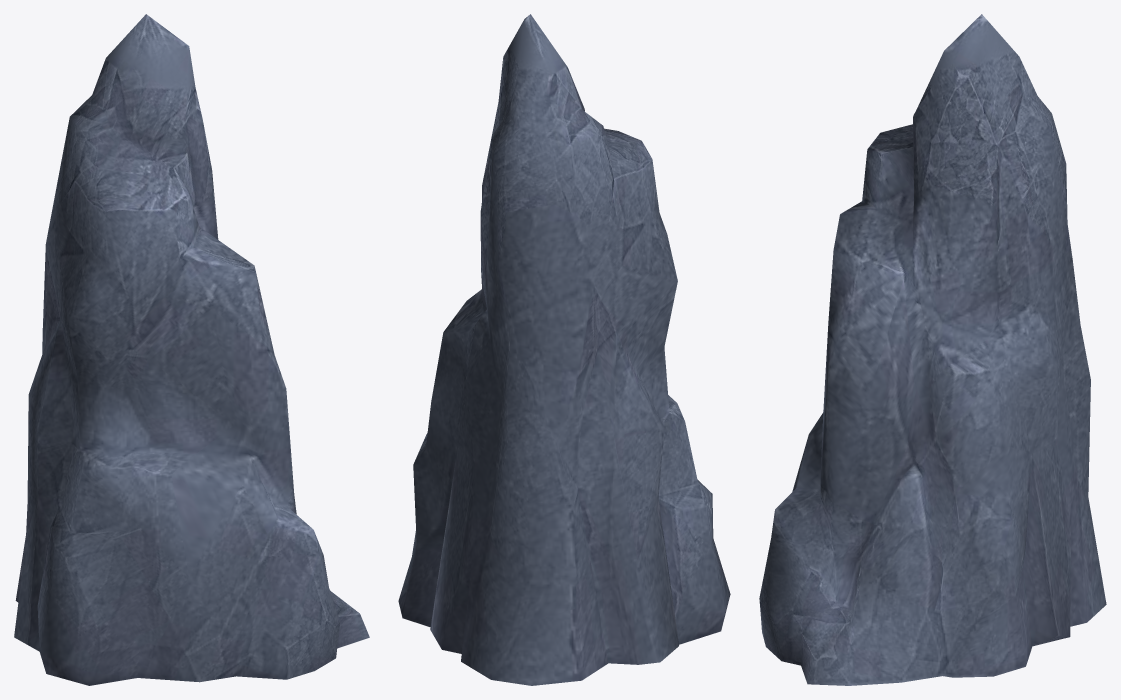
File: rock_b.glb
3 views of the same model, side by side, from view 1: azimuth 30°, elevation 25°; view 2: azimuth 150°, elevation 25°; view 3: azimuth 270°, elevation 25° (orthographic). The views are drawn at different scales.
Visible parts, largest first — view 1: tripo_node_b3e29e96-b04c-4525-aa58-8871cfbc00c4; view 2: tripo_node_b3e29e96-b04c-4525-aa58-8871cfbc00c4; view 3: tripo_node_b3e29e96-b04c-4525-aa58-8871cfbc00c4.
Boxes of the visible parts, left/top/right/bottom form: tripo_node_b3e29e96-b04c-4525-aa58-8871cfbc00c4: left=14, top=14, right=369, bottom=685; tripo_node_b3e29e96-b04c-4525-aa58-8871cfbc00c4: left=398, top=14, right=730, bottom=685; tripo_node_b3e29e96-b04c-4525-aa58-8871cfbc00c4: left=759, top=14, right=1106, bottom=685.
Bounding box in the file's own units: 0.5059 × 0.998 × 0.5215.
Materials: 1 (1 with a texture image).
